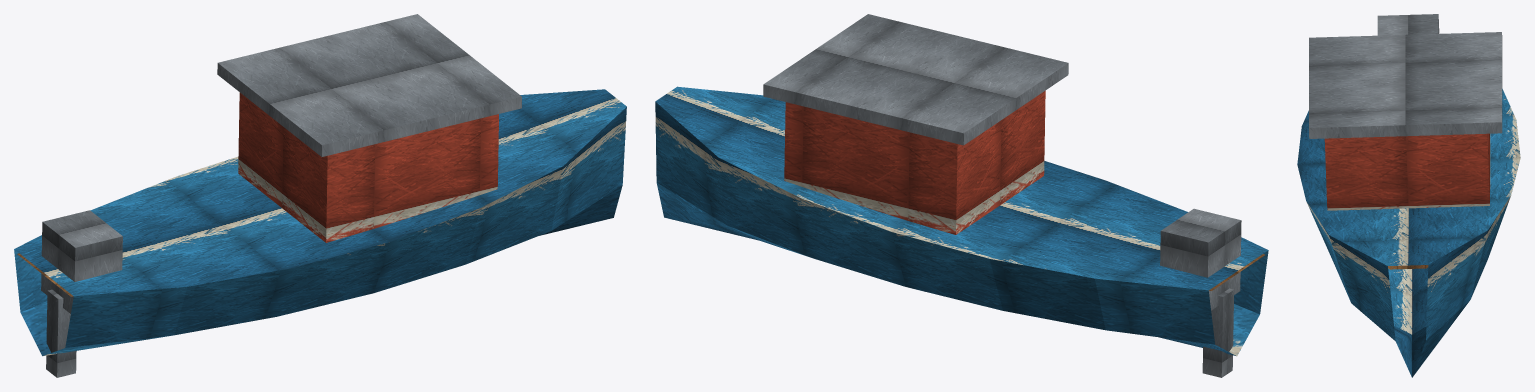
Rendered from lancha.glb.
The picture shows the model from 3 angles, left to right: view 1: azimuth 30°, elevation 25°; view 2: azimuth 150°, elevation 25°; view 3: azimuth 270°, elevation 25°; orthographic projection. The views are drawn at different scales.
Parts seen in each view (by area): view 1: Lancha_casco; view 2: Lancha_casco; view 3: Lancha_casco.
Part boxes in pixels (x1,y1,x2,y2): Lancha_casco: (14, 14, 626, 377); Lancha_casco: (655, 14, 1268, 377); Lancha_casco: (1297, 14, 1520, 377).
Size of the model in its own units: 6 by 2.24 by 2.19.
Materials: 4 (4 with a texture image).
